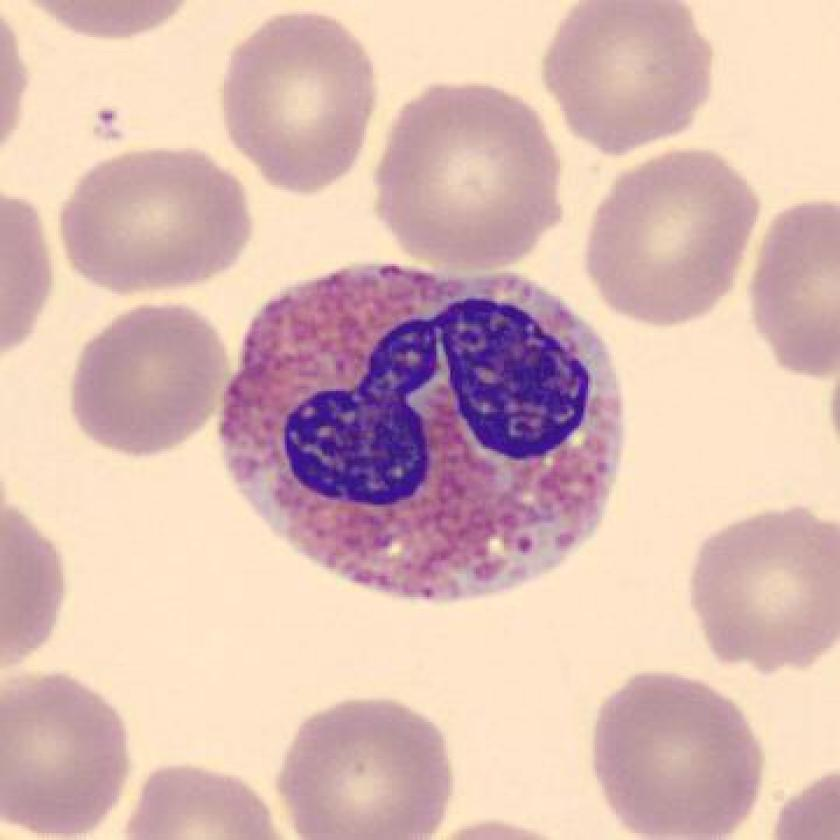eosinophil: (199, 253, 645, 619)
